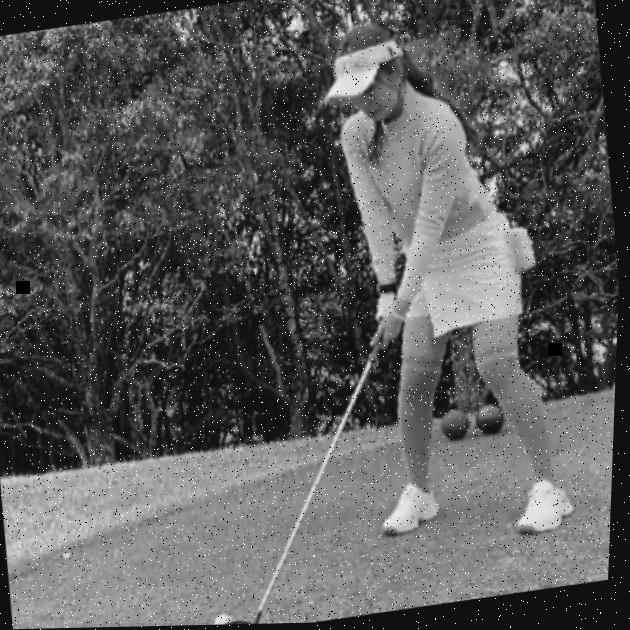ClubHead: (222, 617, 273, 626)
GolfBall: (215, 612, 235, 626)
